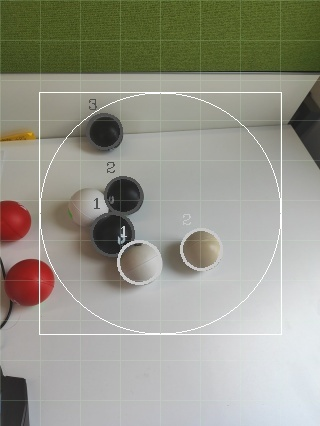Pelota blanca: (113, 238, 163, 286), (177, 228, 225, 272), (66, 185, 107, 227)
Pelota negra: (90, 212, 137, 256), (103, 174, 145, 216), (84, 110, 123, 152)
Pelota roja: (4, 257, 57, 307), (0, 198, 33, 243)
